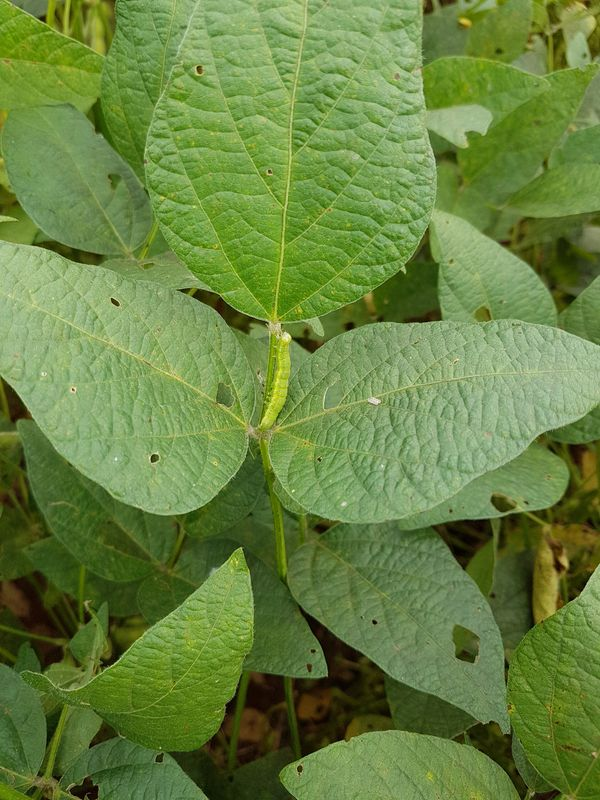Anticarsia_gemmatalis: (242, 324, 321, 437)
